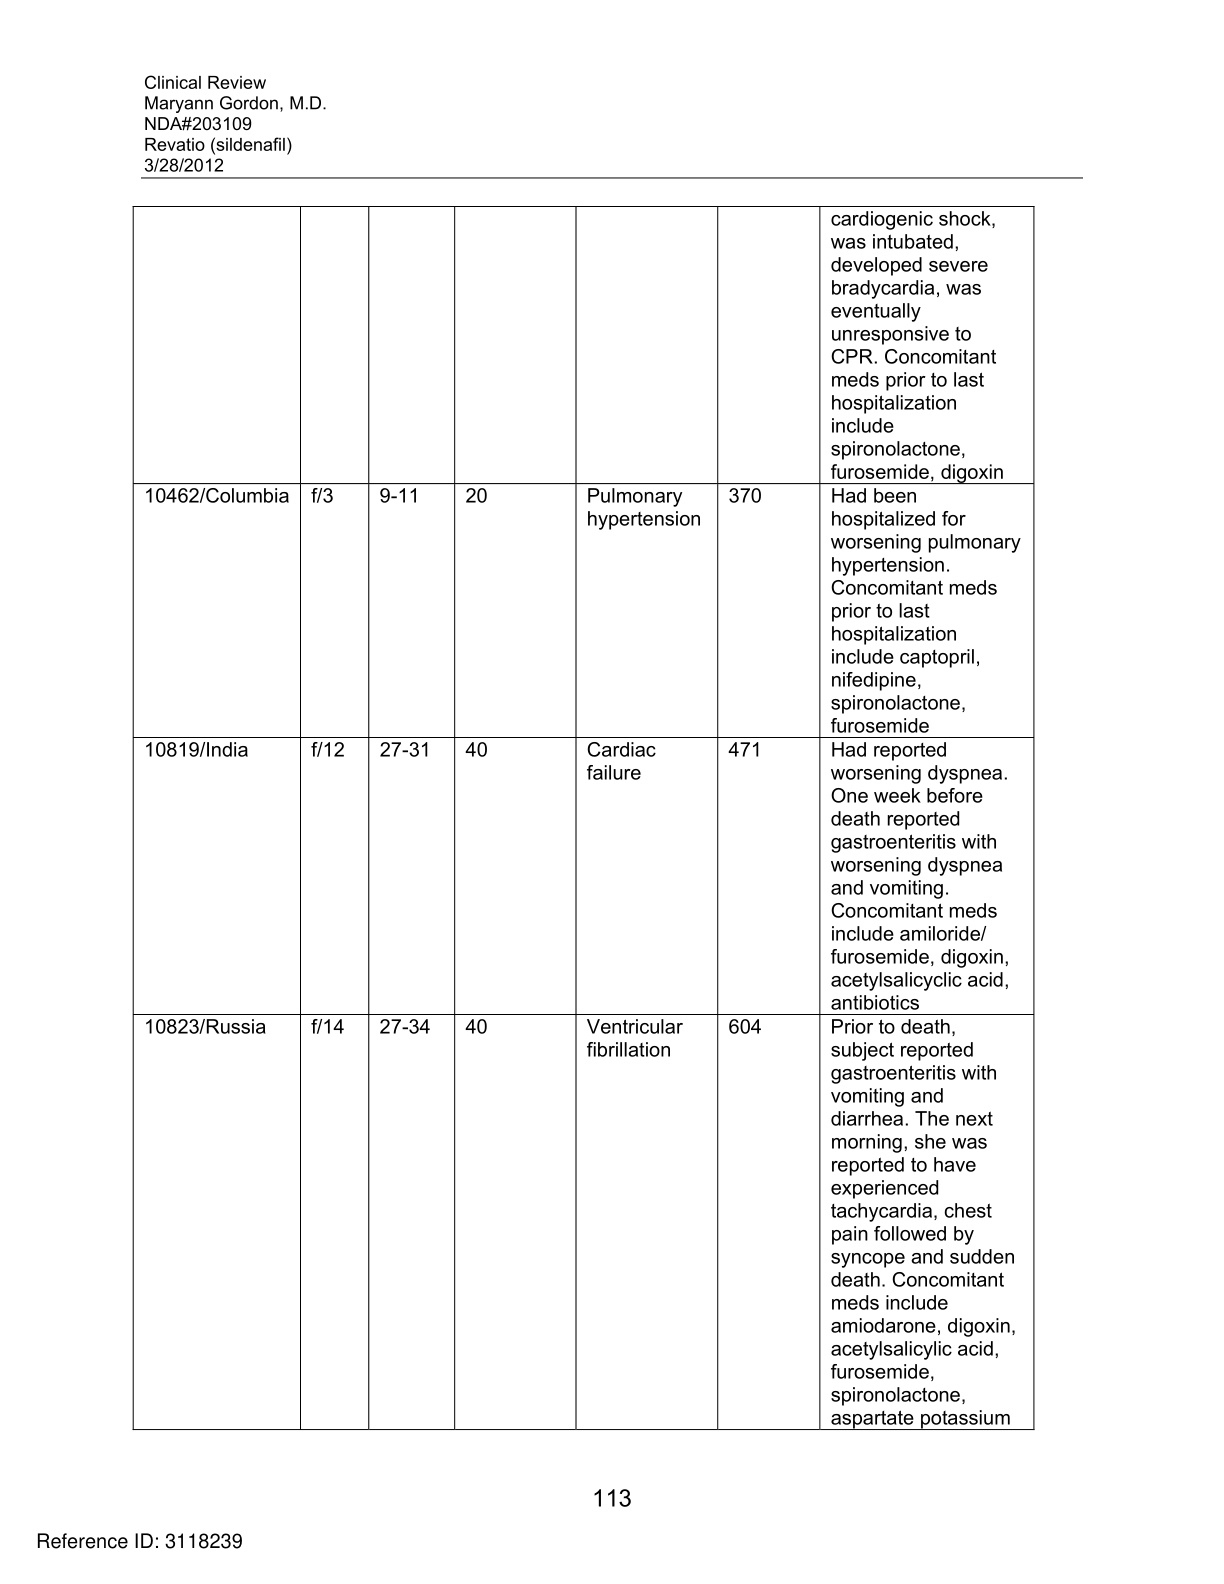full_lined: (131, 204, 1036, 1431)
